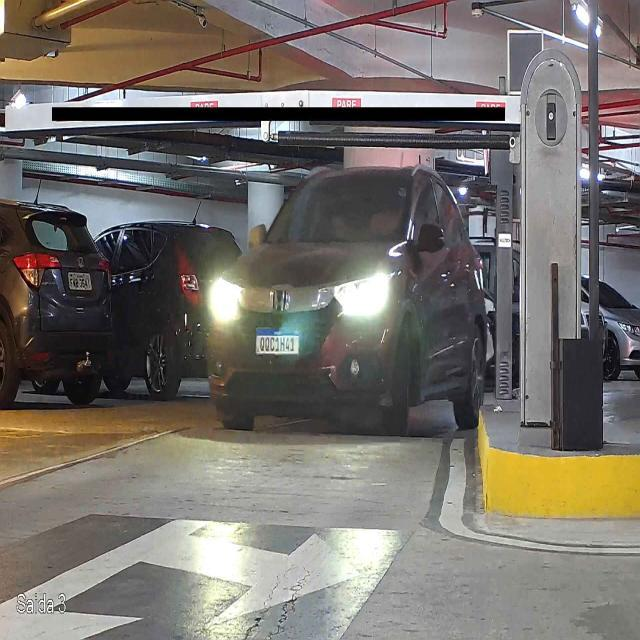mercosul_plate: (255, 327, 300, 358)
